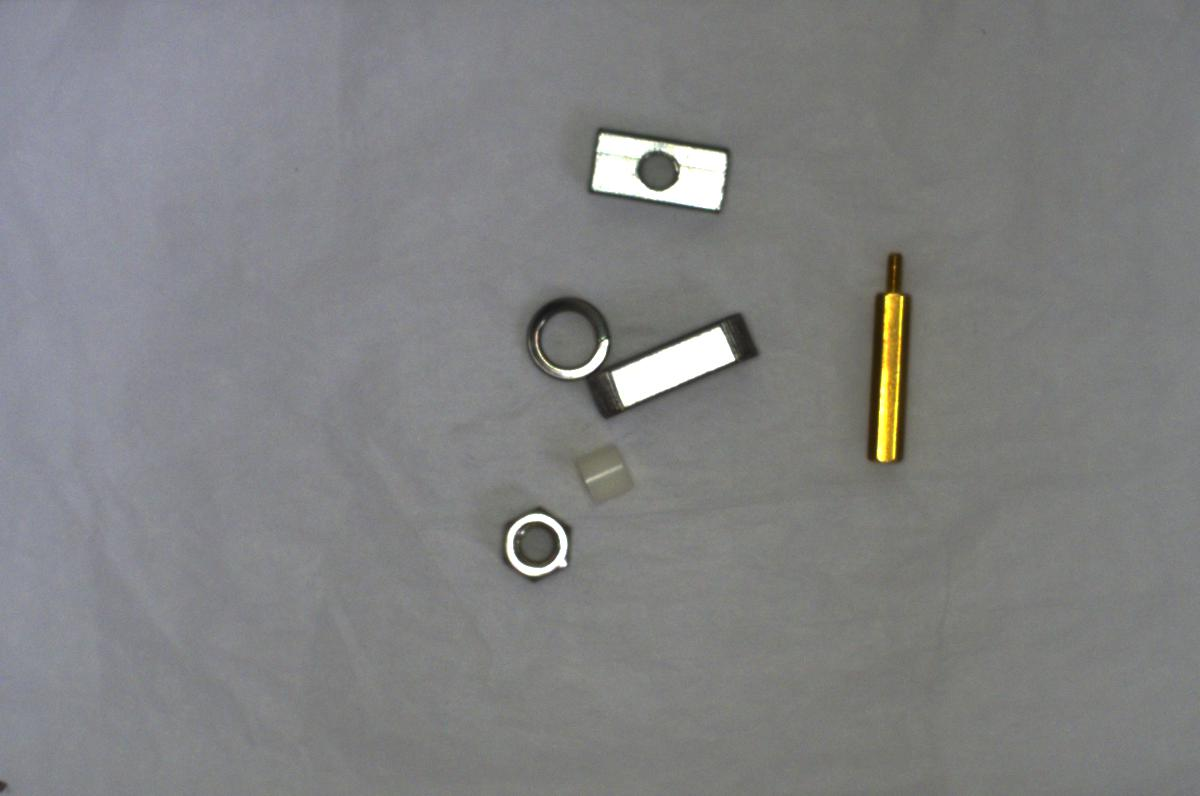Hexagon nut: (484, 498, 580, 581)
Hexagon pillar: (862, 249, 915, 472)
Keybar: (584, 302, 765, 415)
Plastic cushion pillar: (566, 442, 648, 507)
Rectangular nut: (582, 122, 731, 218)
Spring washer: (522, 287, 613, 389)
